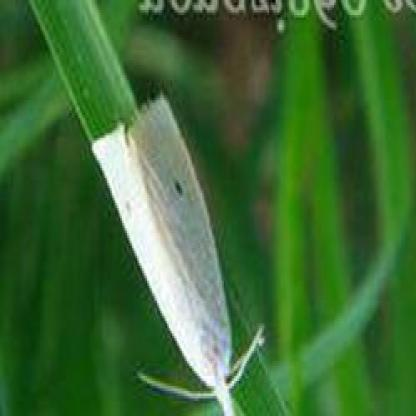stem-borer: (87, 87, 266, 416)
